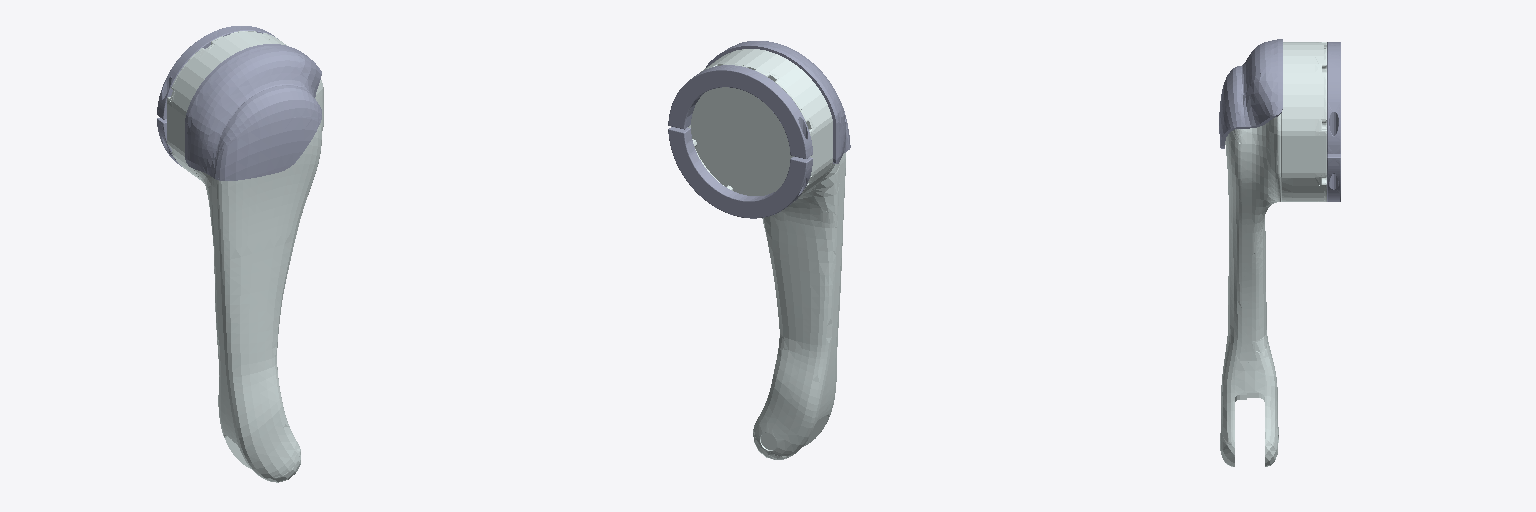
The model's file is thigh_mirror.obj.
3 renders of one model, left to right at view 1: azimuth 30°, elevation 25°; view 2: azimuth 150°, elevation 25°; view 3: azimuth 270°, elevation 25°, orthographic.
Parts seen in each view (by area): view 1: thigh_003-mesh; view 2: thigh_003-mesh; view 3: thigh_003-mesh.
Part boxes in pixels (x1,y1,x2,y2): thigh_003-mesh: (157, 26, 323, 482); thigh_003-mesh: (668, 41, 850, 459); thigh_003-mesh: (1219, 39, 1340, 466).
Bounding box in the file's own units: 0.0969 × 0.2779 × 0.0734.